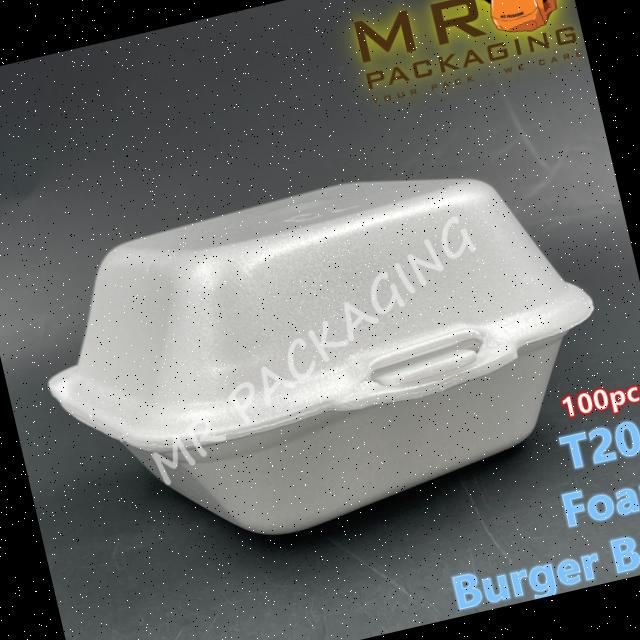styrofoam: (16, 132, 629, 580)
